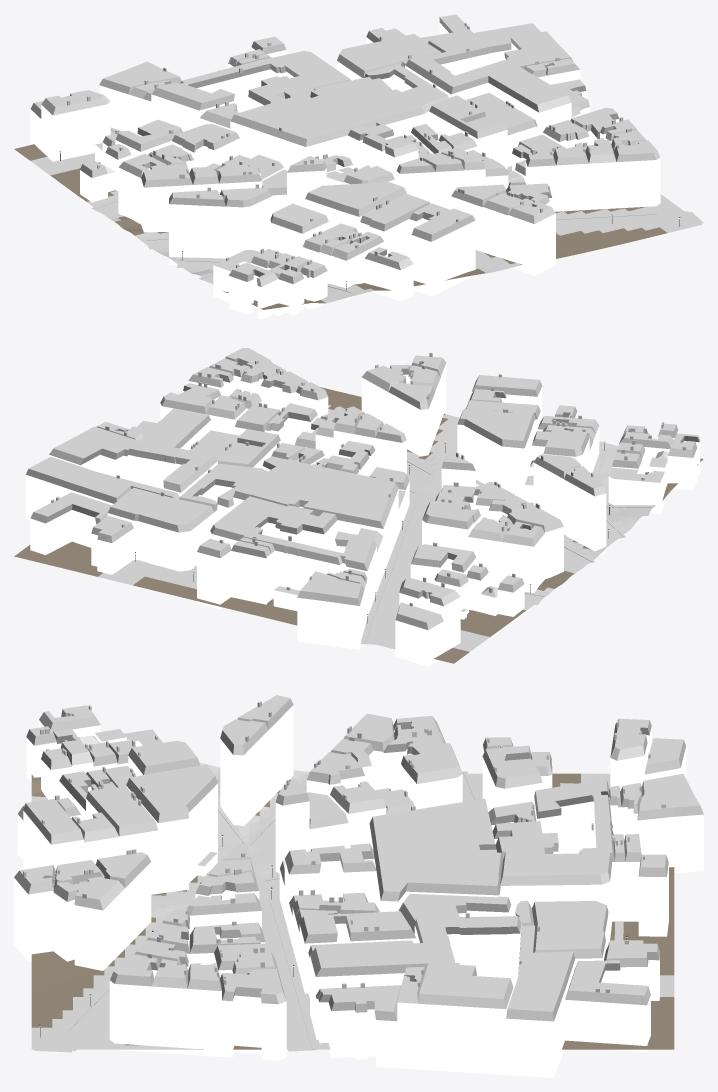
The model's file is zone_G6.glb.
The picture shows the model from 3 angles, top to bottom: view 1: azimuth 30°, elevation 25°; view 2: azimuth 150°, elevation 25°; view 3: azimuth 270°, elevation 25°; orthographic projection. The views are drawn at different scales.
Visible parts, largest first — view 1: zone_G6_batiments, zone_G6_terrain, zone_G6_sol_NOCOL; view 2: zone_G6_batiments, zone_G6_terrain, zone_G6_sol_NOCOL; view 3: zone_G6_batiments, zone_G6_terrain, zone_G6_sol_NOCOL.
Part boxes in pixels (left/top/right/bottom): zone_G6_batiments: left=30, top=14, right=660, bottom=319; zone_G6_terrain: left=14, top=144, right=701, bottom=309; zone_G6_sol_NOCOL: left=39, top=127, right=703, bottom=298; zone_G6_batiments: left=25, top=348, right=700, bottom=666; zone_G6_terrain: left=14, top=387, right=703, bottom=663; zone_G6_sol_NOCOL: left=109, top=418, right=652, bottom=646; zone_G6_batiments: left=14, top=695, right=703, bottom=1077; zone_G6_terrain: left=31, top=762, right=674, bottom=1049; zone_G6_sol_NOCOL: left=34, top=771, right=669, bottom=1052.
Bounding box in the file's own units: 209 × 29.54 × 199.
